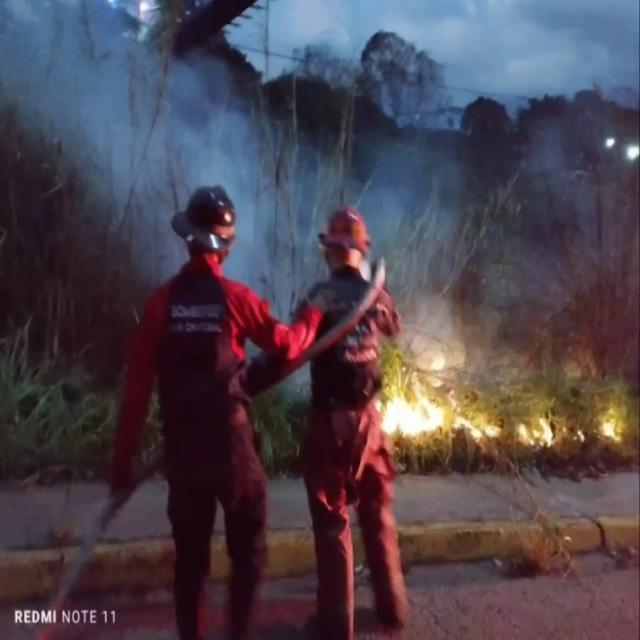Fire: (374, 352, 630, 459)
Smoke: (0, 2, 280, 264)
